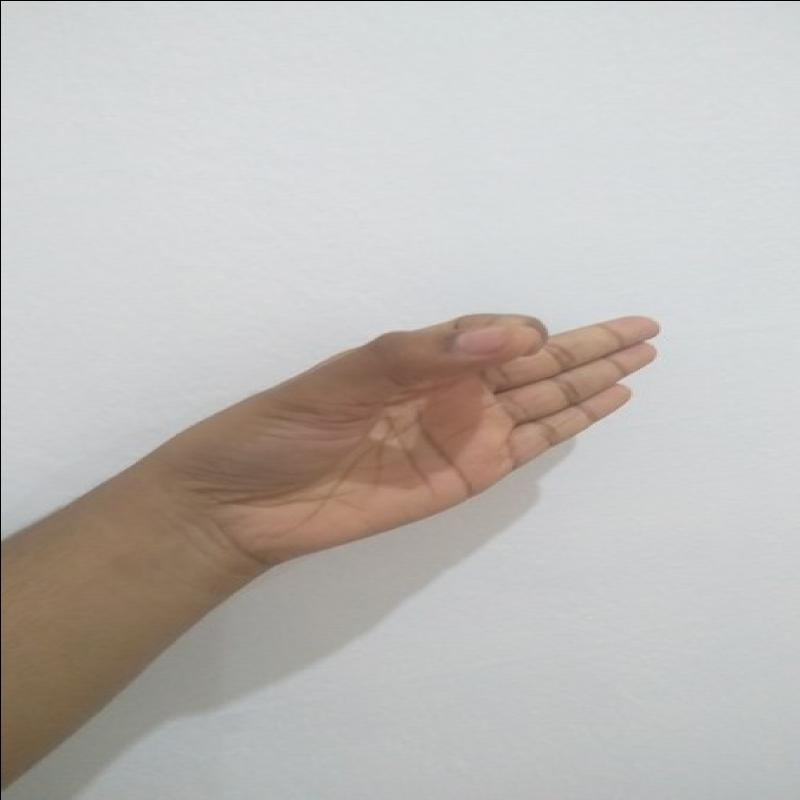Mudraakhyam: (178, 292, 673, 578)
